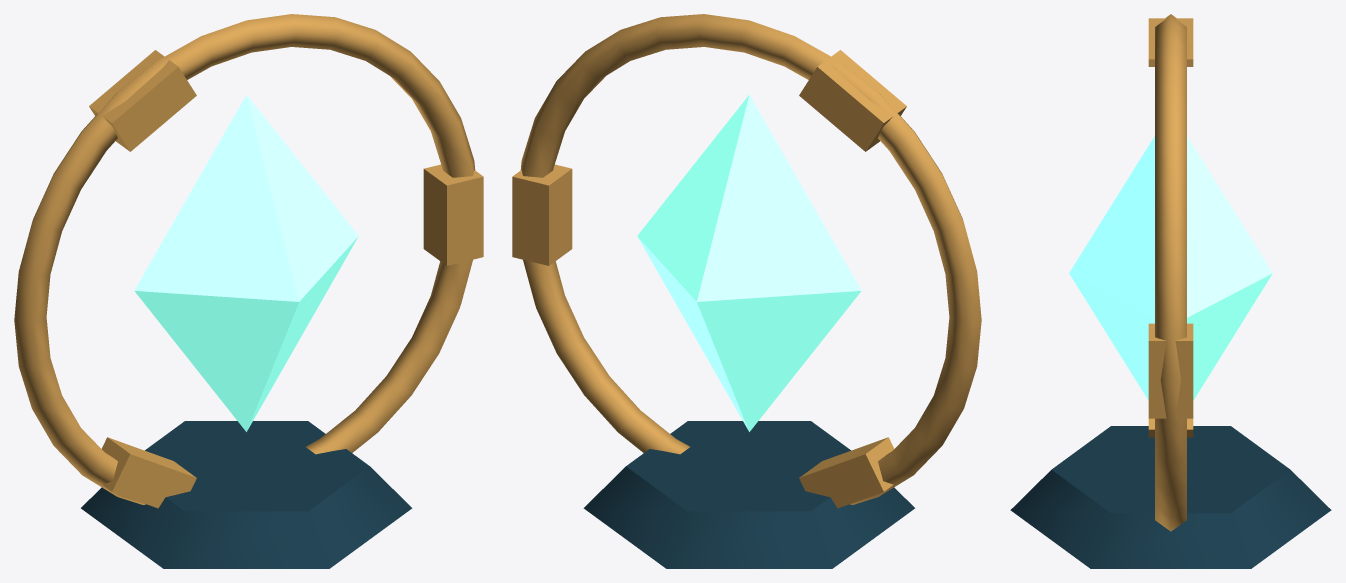
File: relic-01.glb
3 views of the same model, side by side, from view 1: azimuth 30°, elevation 25°; view 2: azimuth 150°, elevation 25°; view 3: azimuth 270°, elevation 25° (orthographic). The views are drawn at different scales.
Visible parts, largest first — view 1: aged-brass-merged, aether-glass-merged, deep-basalt-merged; view 2: aged-brass-merged, aether-glass-merged, deep-basalt-merged; view 3: deep-basalt-merged, aether-glass-merged, aged-brass-merged.
Part boxes in pixels (x1,y1,x2,y2): aged-brass-merged: (14,14,483,508); aether-glass-merged: (134,95,358,431); deep-basalt-merged: (81,421,412,568); aged-brass-merged: (512,14,981,508); aether-glass-merged: (637,95,861,431); deep-basalt-merged: (583,421,914,568); deep-basalt-merged: (1010,426,1331,568); aether-glass-merged: (1069,136,1272,400); aged-brass-merged: (1148,14,1193,531).
Bounding box in the file's own units: 1.39 × 1.39 × 0.86.
